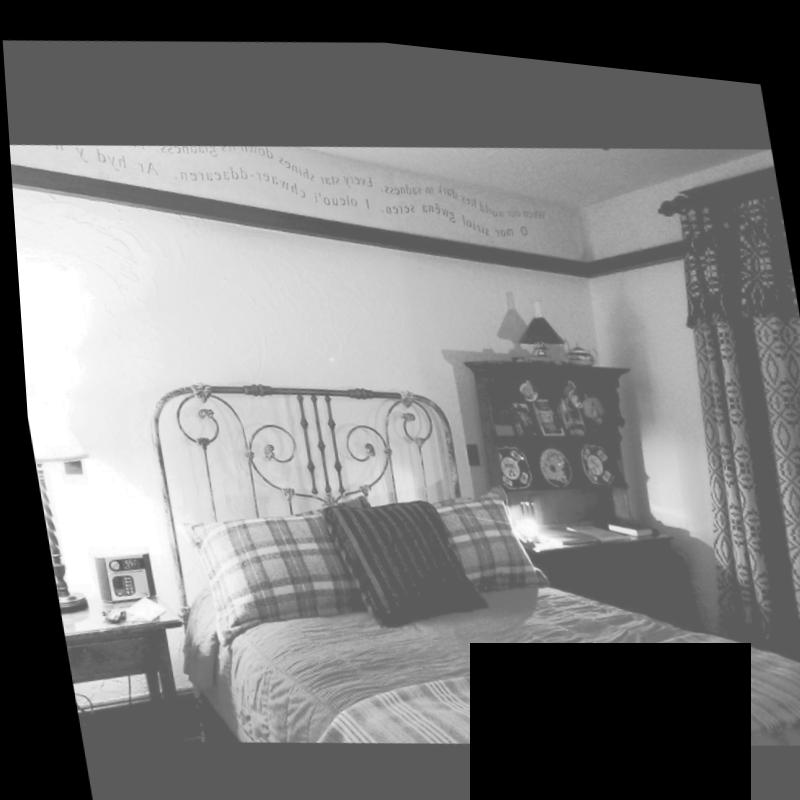pillow: (169, 467, 390, 662), (311, 472, 497, 638), (425, 456, 542, 585)
